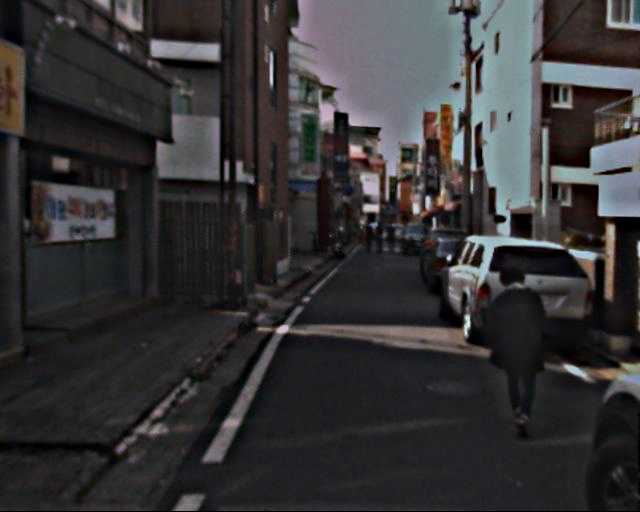person: (480, 262, 554, 440), (368, 222, 403, 257)
